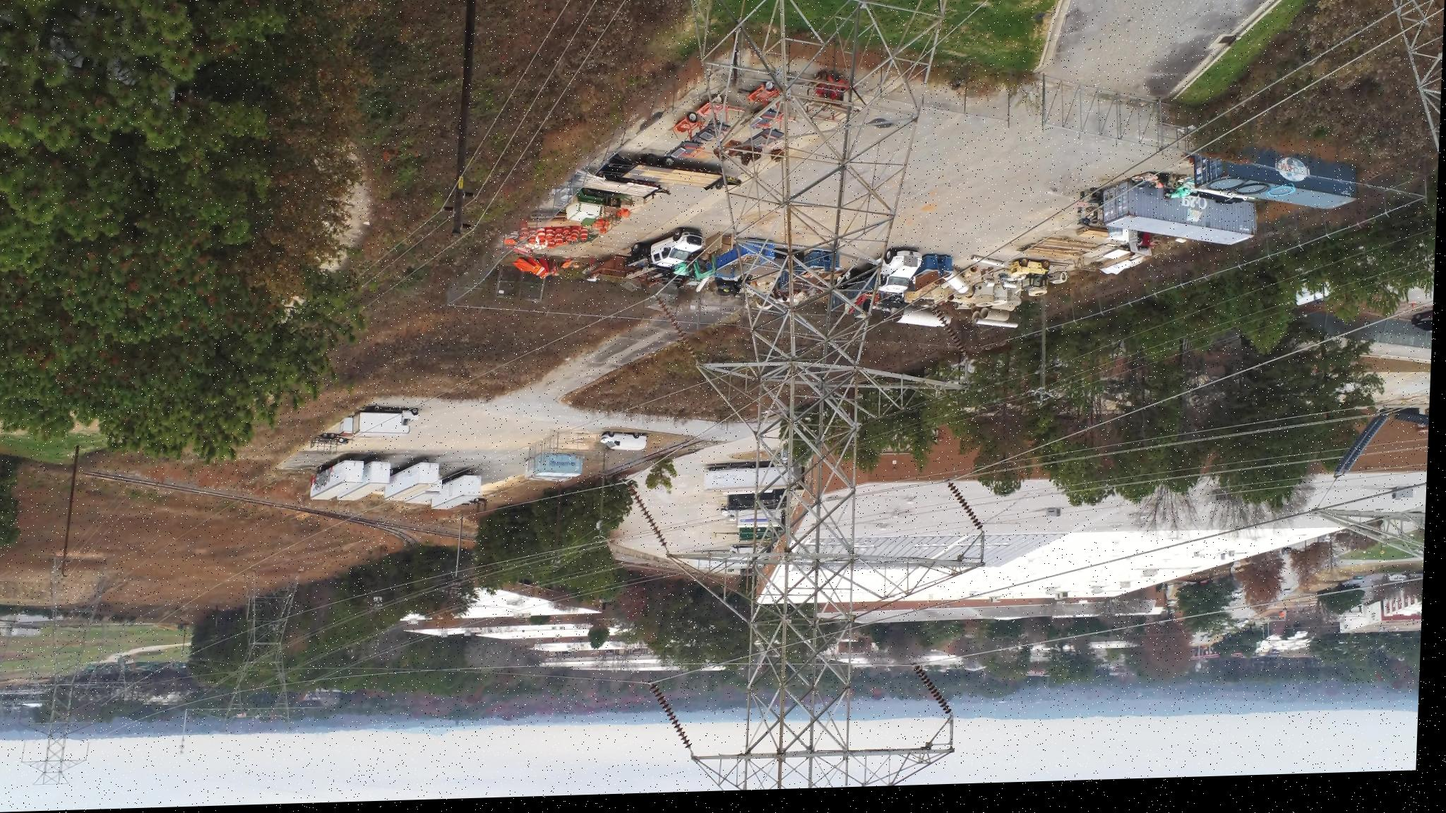tower: (615, 0, 1016, 792), (13, 564, 111, 791), (207, 564, 317, 735), (1379, 0, 1446, 158), (1296, 504, 1426, 568)
